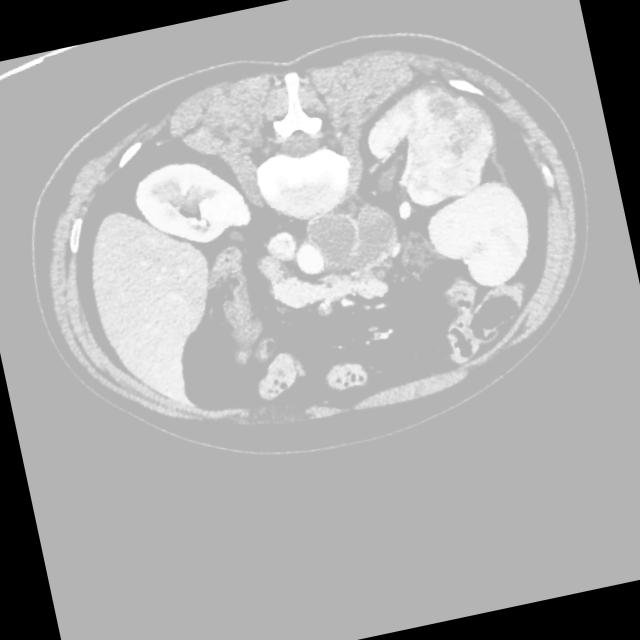TUMOR: (151, 158, 575, 416)
